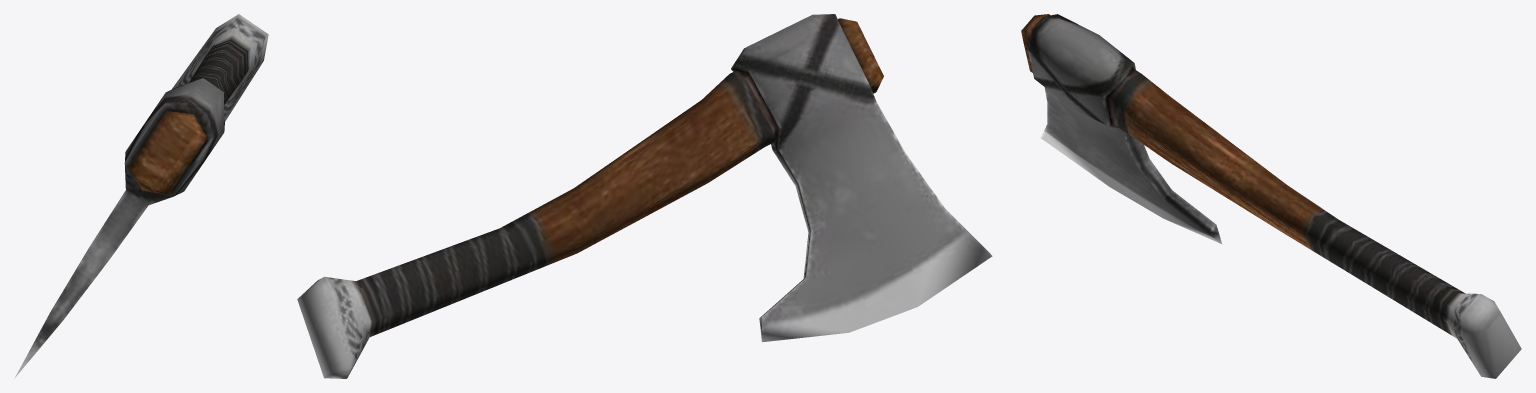
The model's file is rider-weapon-slice-bronzeweapons.glb.
3 views of the same model, side by side, from view 1: azimuth 30°, elevation 25°; view 2: azimuth 150°, elevation 25°; view 3: azimuth 270°, elevation 25° (orthographic). The views are drawn at different scales.
Bounding box in the file's own units: 0.7855 × 0.4206 × 0.7914.
1 material, 1 textured.
